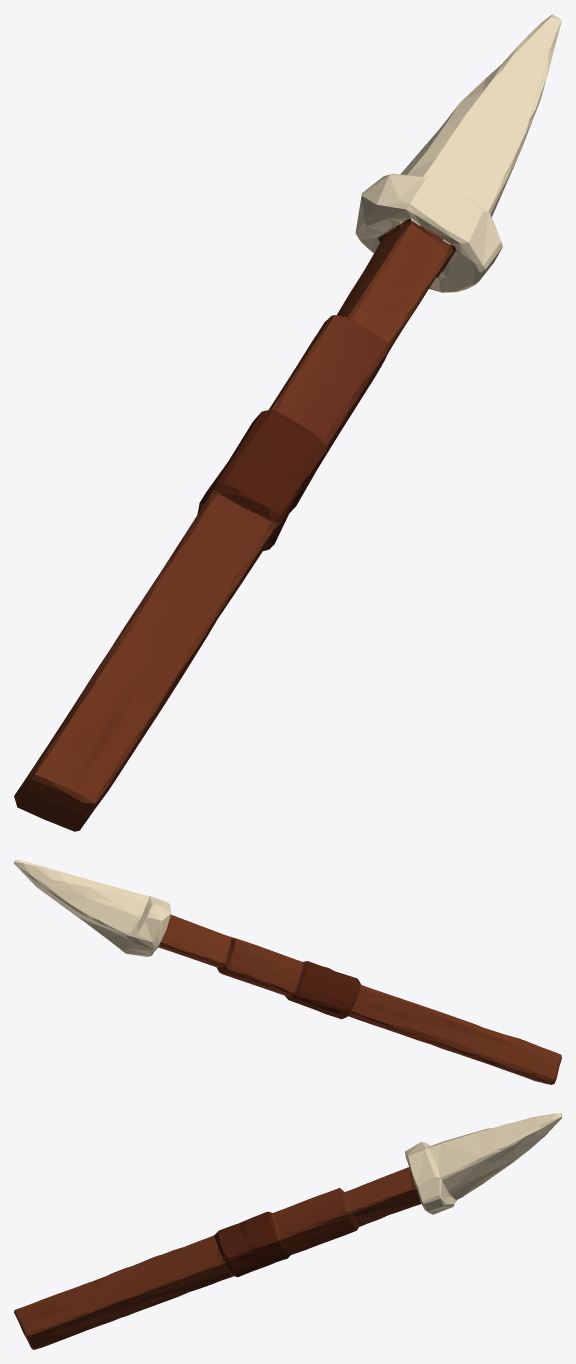
Rendered from spear.fbx.
3 renders of one model, top to bottom at view 1: azimuth 30°, elevation 25°; view 2: azimuth 150°, elevation 25°; view 3: azimuth 330°, elevation 25°, orthographic. The views are drawn at different scales.
Parts seen in each view (by area): view 1: Mesh_0; view 2: Mesh_0; view 3: Mesh_0.
Boxes of the visible parts, bbox=[...] form: Mesh_0: bbox=[14, 14, 561, 831]; Mesh_0: bbox=[14, 860, 561, 1084]; Mesh_0: bbox=[14, 1113, 561, 1349].
Bounding box in the file's own units: 1.88 × 1 × 1.17.
1 material, 1 textured.
